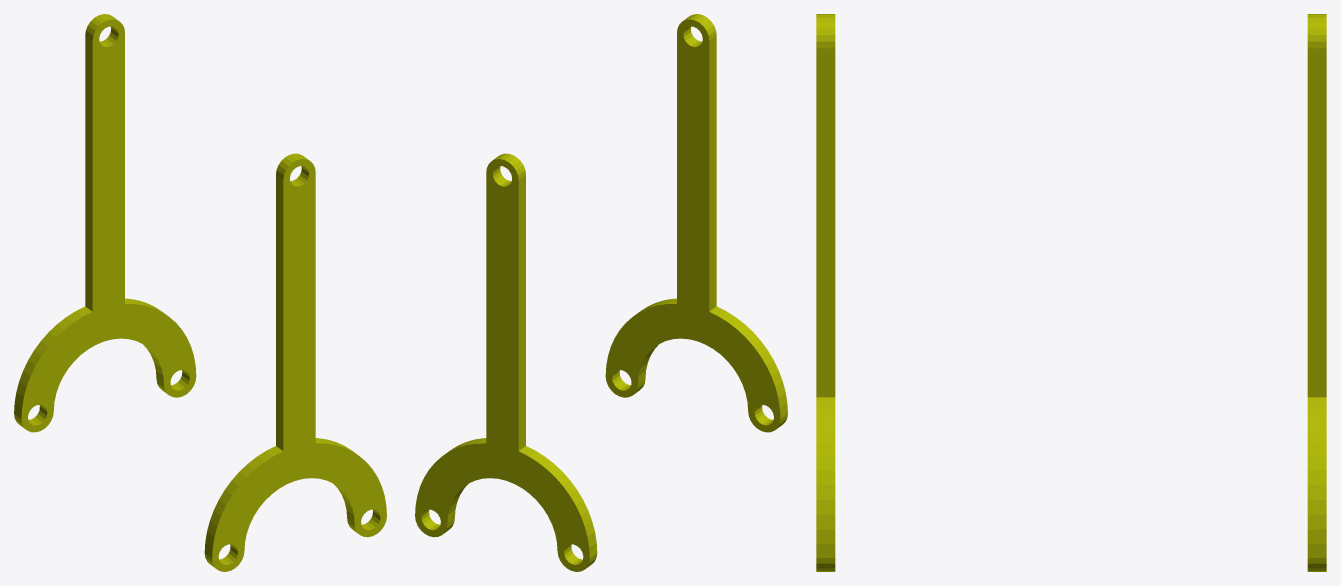
Rendered from hand_finger_connector.obj.
The picture shows the model from 3 angles, left to right: view 1: azimuth 30°, elevation 25°; view 2: azimuth 150°, elevation 25°; view 3: azimuth 270°, elevation 25°; orthographic projection. The views are drawn at different scales.
Visible parts, largest first — view 1: メッシュ フィーチャ1_2, メッシュ フィーチャ1_1; view 2: メッシュ フィーチャ1_1, メッシュ フィーチャ1_2; view 3: メッシュ フィーチャ1_1, メッシュ フィーチャ1_2.
Part boxes in pixels (bbox=[...]): メッシュ フィーチャ1_2: bbox=[14, 14, 196, 432]; メッシュ フィーチャ1_1: bbox=[204, 153, 386, 571]; メッシュ フィーチャ1_1: bbox=[605, 14, 787, 432]; メッシュ フィーチャ1_2: bbox=[415, 153, 597, 571]; メッシュ フィーチャ1_1: bbox=[816, 14, 835, 571]; メッシュ フィーチャ1_2: bbox=[1307, 14, 1326, 571].
Bounding box in the file's own units: 27 × 58.22 × 53.
